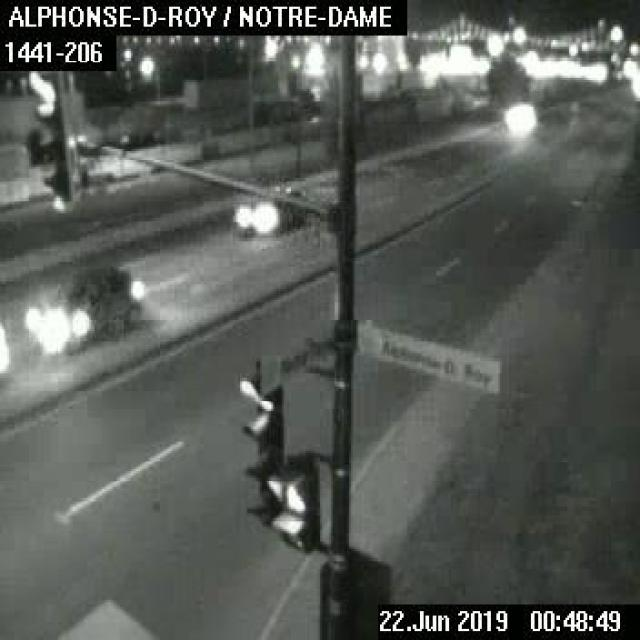vehicle: (38, 262, 142, 342), (237, 188, 314, 231)
